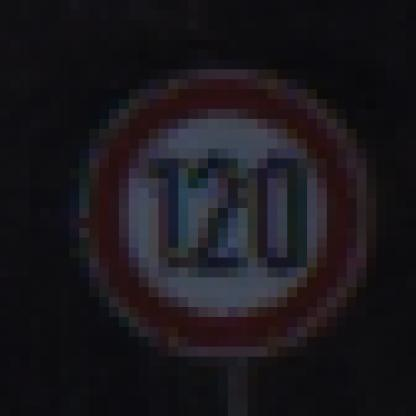Speed Limit 120: (92, 80, 360, 348)
